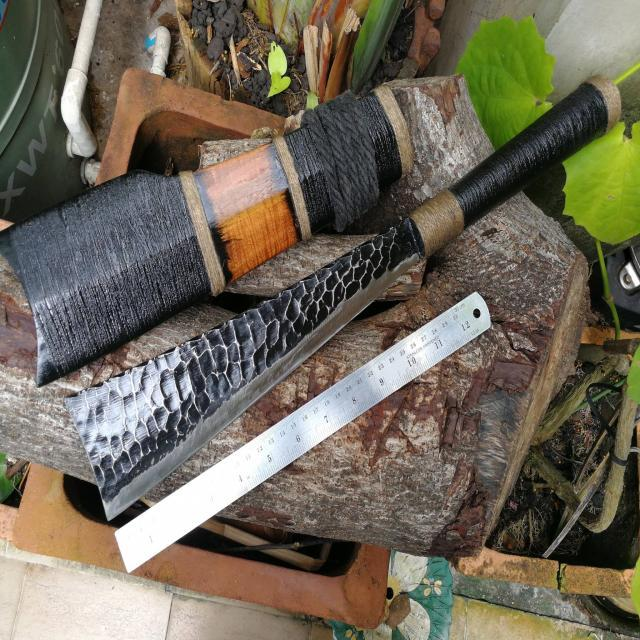eto: (51, 58, 634, 540)
